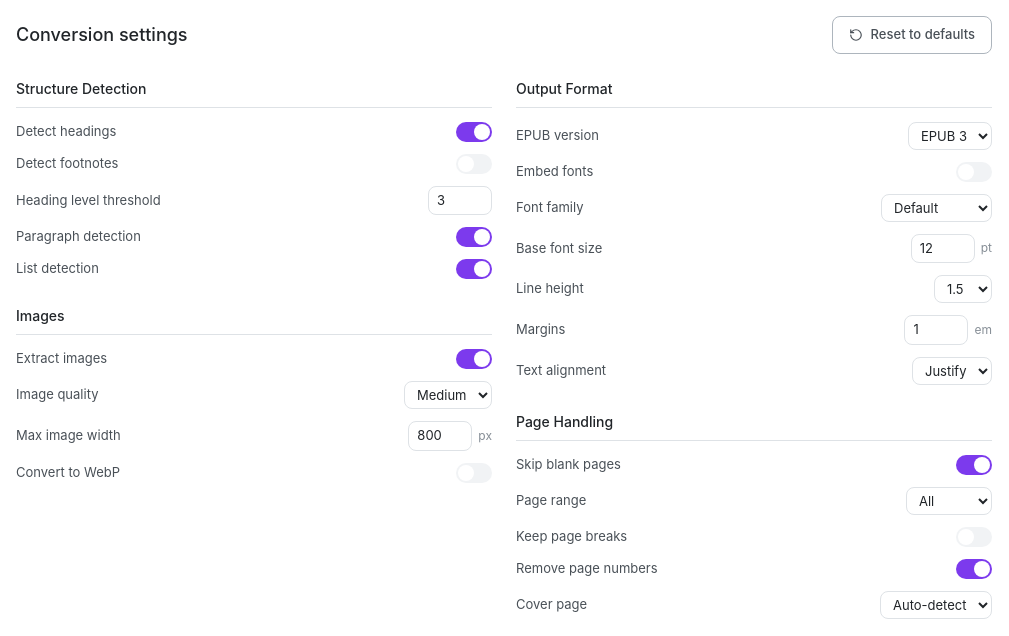
Test: SettingsScreen › enabling "Extract images" re-enables image sub-settings
Click the switch named "Extract images".
click(474, 359)  # box [456,349,492,369]
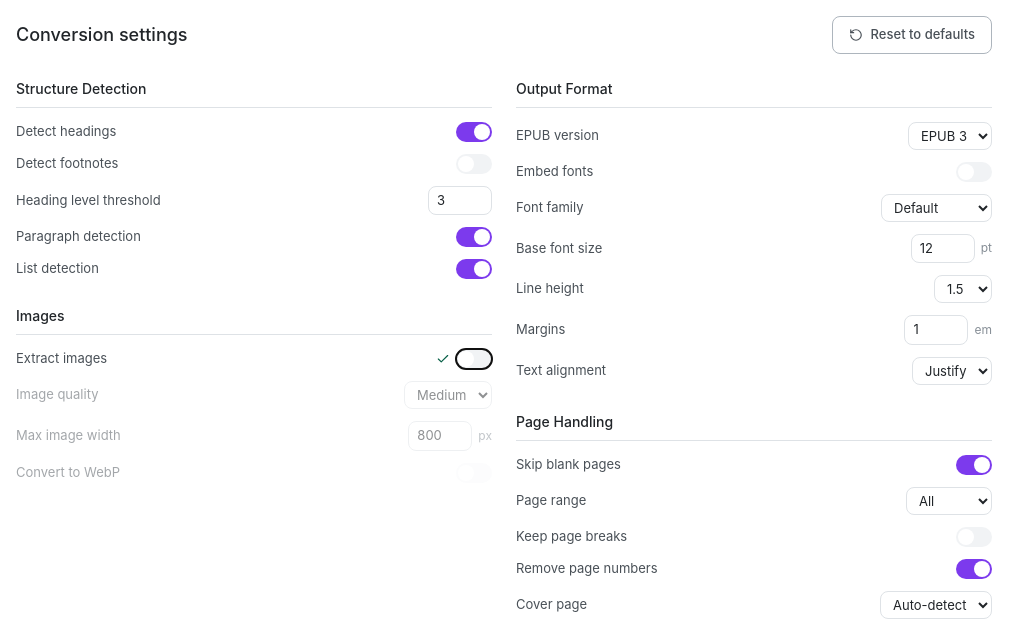
Now the dropdown showing "Medium" in the row of "Image quality" is disabled, box [404,381,492,409]
Click the switch named "Extract images".
click(474, 359)  # box [456,349,492,369]
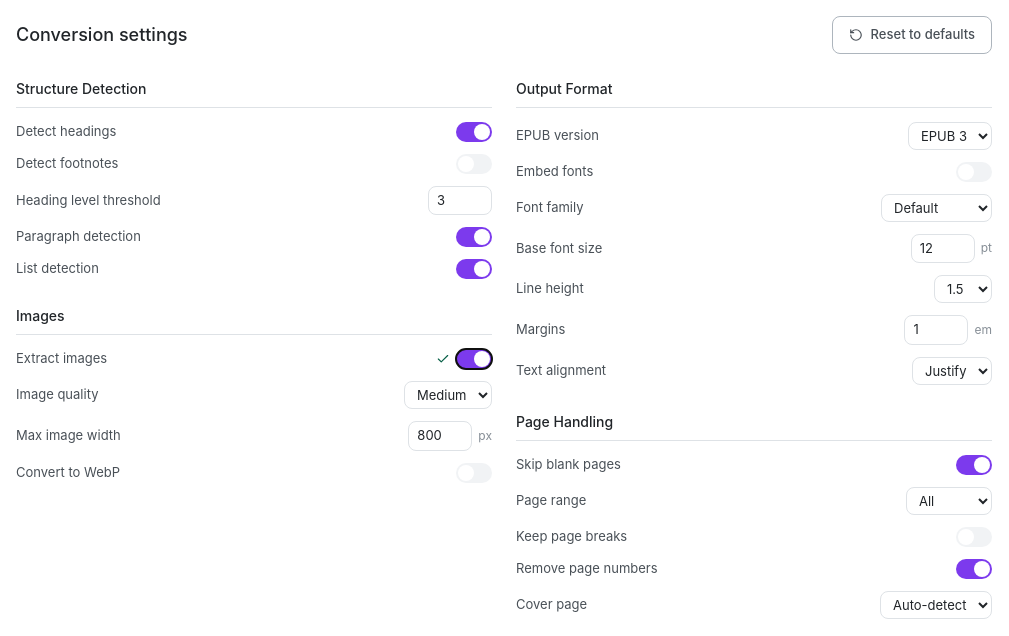
Now the dropdown showing "Medium" in the row of "Image quality" is enabled, box [404,381,492,409]
